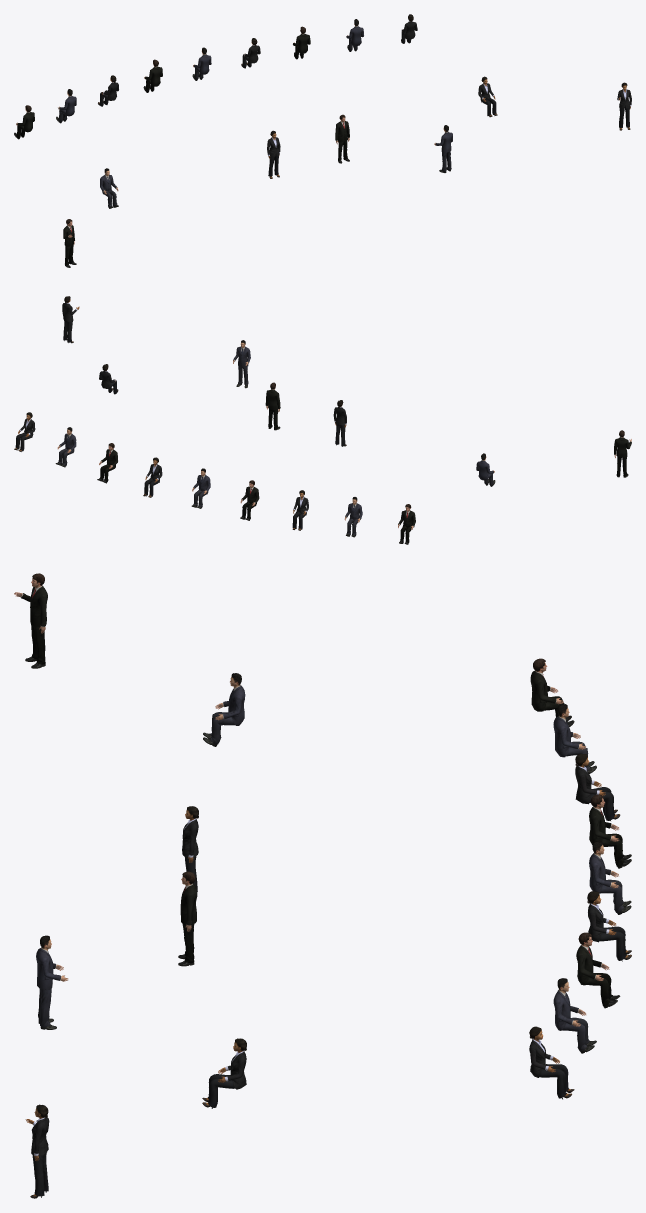
File: grand-technical-shape-v3-visitors.glb
The picture shows the model from 3 angles, top to bottom: view 1: azimuth 30°, elevation 25°; view 2: azimuth 150°, elevation 25°; view 3: azimuth 270°, elevation 25°; orthographic projection. The views are drawn at different scales.
Visible parts, largest first — view 1: grand-technical-shape-v3-visitors | visitors | Rocketbox | B (×3); view 2: grand-technical-shape-v3-visitors | visitors | Rocketbox | B (×3); view 3: grand-technical-shape-v3-visitors | visitors | Rocketbox | B (×3).
Boxes of the visible parts, bbox=[...] form: grand-technical-shape-v3-visitors | visitors | Rocketbox | B (×3): bbox=[14, 14, 631, 267]; grand-technical-shape-v3-visitors | visitors | Rocketbox | B (×3): bbox=[14, 296, 631, 544]; grand-technical-shape-v3-visitors | visitors | Rocketbox | B (×3): bbox=[14, 573, 631, 1198].
Size of the model in its own units: 23.34 by 1.79 by 11.21.
Materials: 9 (9 with a texture image).
